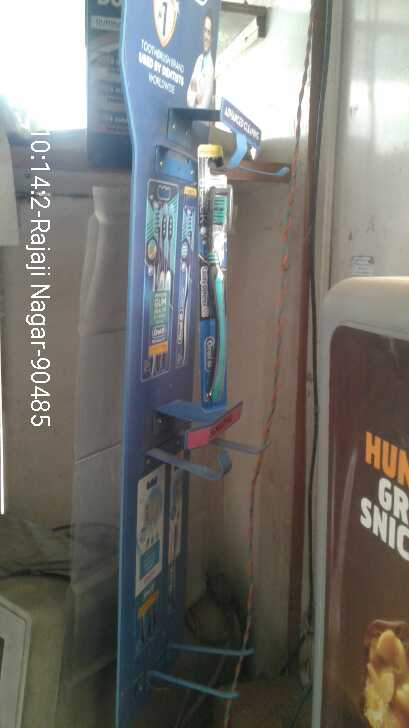oralb: (207, 175, 239, 409)
